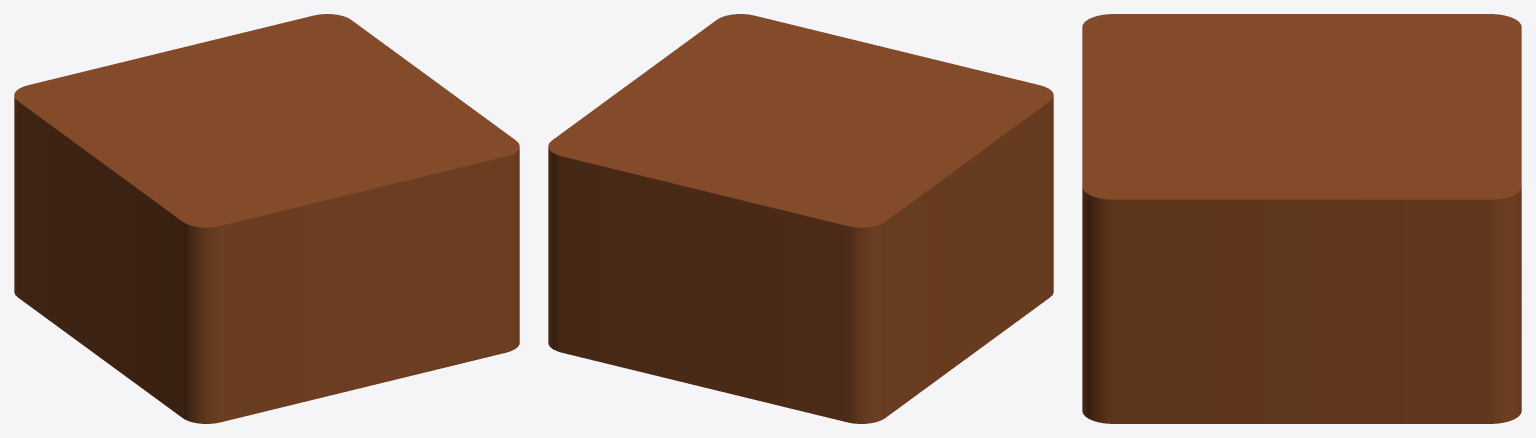
The picture shows the model from 3 angles, left to right: view 1: azimuth 30°, elevation 25°; view 2: azimuth 150°, elevation 25°; view 3: azimuth 270°, elevation 25°; orthographic projection. The views are drawn at different scales.
Visible parts, largest first — view 1: Rectangle028; view 2: Rectangle028; view 3: Rectangle028.
Part boxes in pixels (bbox=[...]): Rectangle028: bbox=[14, 14, 519, 423]; Rectangle028: bbox=[548, 14, 1053, 423]; Rectangle028: bbox=[1082, 14, 1521, 423].
Bounding box in the file's own units: 20.91 × 11.77 × 20.91.
